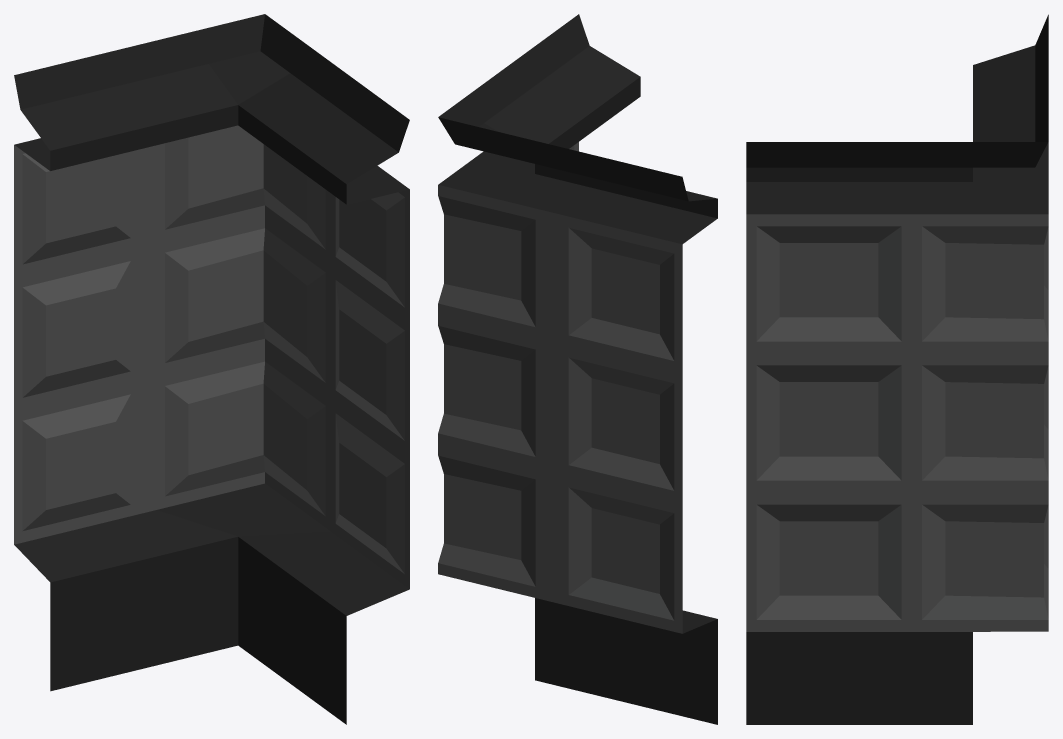
The model's file is corner_wall_bumb_outside_C.fbx.
3 views of the same model, side by side, from view 1: azimuth 30°, elevation 25°; view 2: azimuth 150°, elevation 25°; view 3: azimuth 270°, elevation 25° (orthographic). The views are drawn at different scales.
Parts seen in each view (by area): view 1: corner_wall_bumb_outside_C; view 2: corner_wall_bumb_outside_C; view 3: corner_wall_bumb_outside_C.
Part boxes in pixels (x1,y1,x2,y2): corner_wall_bumb_outside_C: [14, 14, 409, 724]; corner_wall_bumb_outside_C: [438, 14, 717, 724]; corner_wall_bumb_outside_C: [746, 14, 1048, 724].
Bounding box in the file's own units: 134 × 300 × 133.
